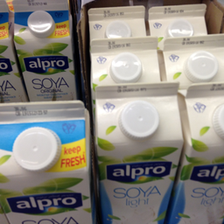milk: (93, 83, 184, 224), (1, 99, 94, 224), (169, 82, 223, 223), (12, 1, 79, 102)
